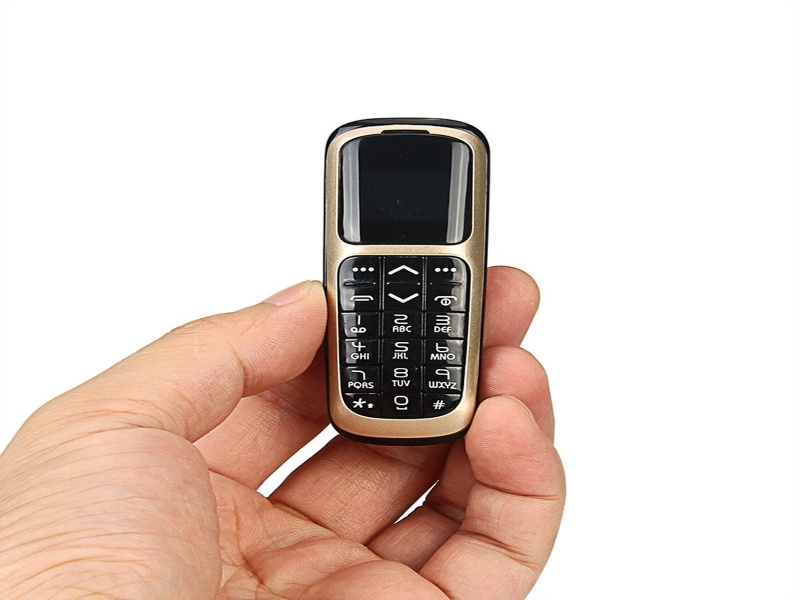mobile: (314, 116, 492, 448)
